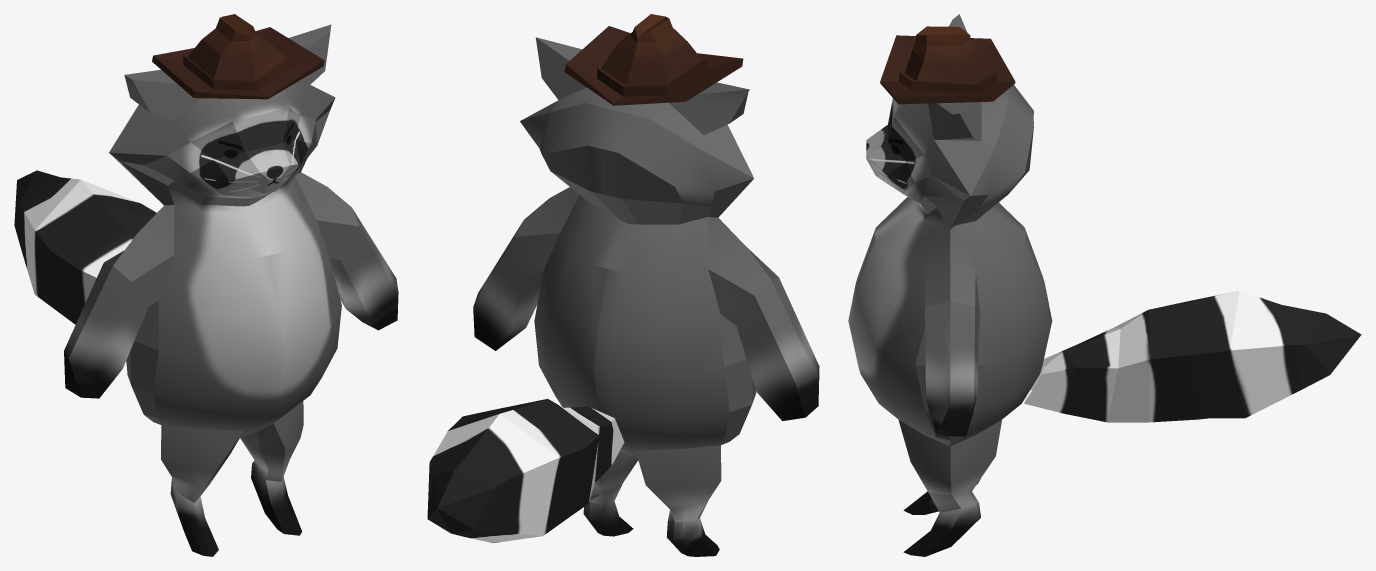
The model's file is raccoon_textured.fbx.
3 views of the same model, side by side, from view 1: azimuth 30°, elevation 25°; view 2: azimuth 150°, elevation 25°; view 3: azimuth 270°, elevation 25° (orthographic). The views are drawn at different scales.
Visible parts, largest first — view 1: raccoon, raccoon_tail, raccoon_hat; view 2: raccoon, raccoon_tail, raccoon_hat; view 3: raccoon, raccoon_tail, raccoon_hat.
Part boxes in pixels (bbox=[...]): raccoon: bbox=[64, 24, 398, 556]; raccoon_tail: bbox=[14, 170, 156, 324]; raccoon_hat: bbox=[152, 14, 324, 99]; raccoon: bbox=[473, 37, 819, 556]; raccoon_tail: bbox=[427, 399, 624, 542]; raccoon_hat: bbox=[564, 14, 743, 105]; raccoon: bbox=[848, 14, 1052, 556]; raccoon_tail: bbox=[1024, 290, 1361, 422]; raccoon_hat: bbox=[880, 26, 1015, 104].
Size of the model in its own units: 6.93 by 10.3 by 9.57.
